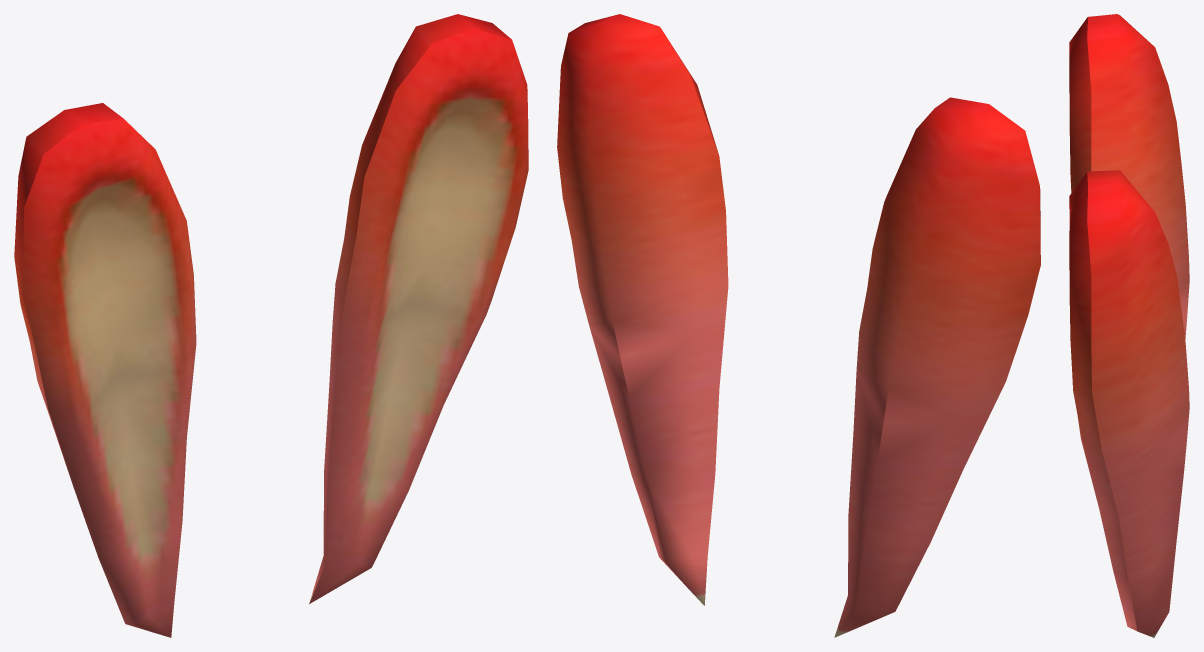
File: ears 1.fbx
The picture shows the model from 3 angles, left to right: view 1: azimuth 30°, elevation 25°; view 2: azimuth 150°, elevation 25°; view 3: azimuth 270°, elevation 25°; orthographic projection. The views are drawn at different scales.
Visible parts, largest first — view 1: mesh_0_EarBase_L; view 2: mesh_0_EarBase_L; view 3: mesh_0_EarBase_L.
Boxes of the visible parts, x1,y1,x2,y2 form: mesh_0_EarBase_L: (14,14,528,637); mesh_0_EarBase_L: (557,14,1040,637); mesh_0_EarBase_L: (1069,14,1189,637).
Bounding box in the file's own units: 169 × 183 × 39.26.
